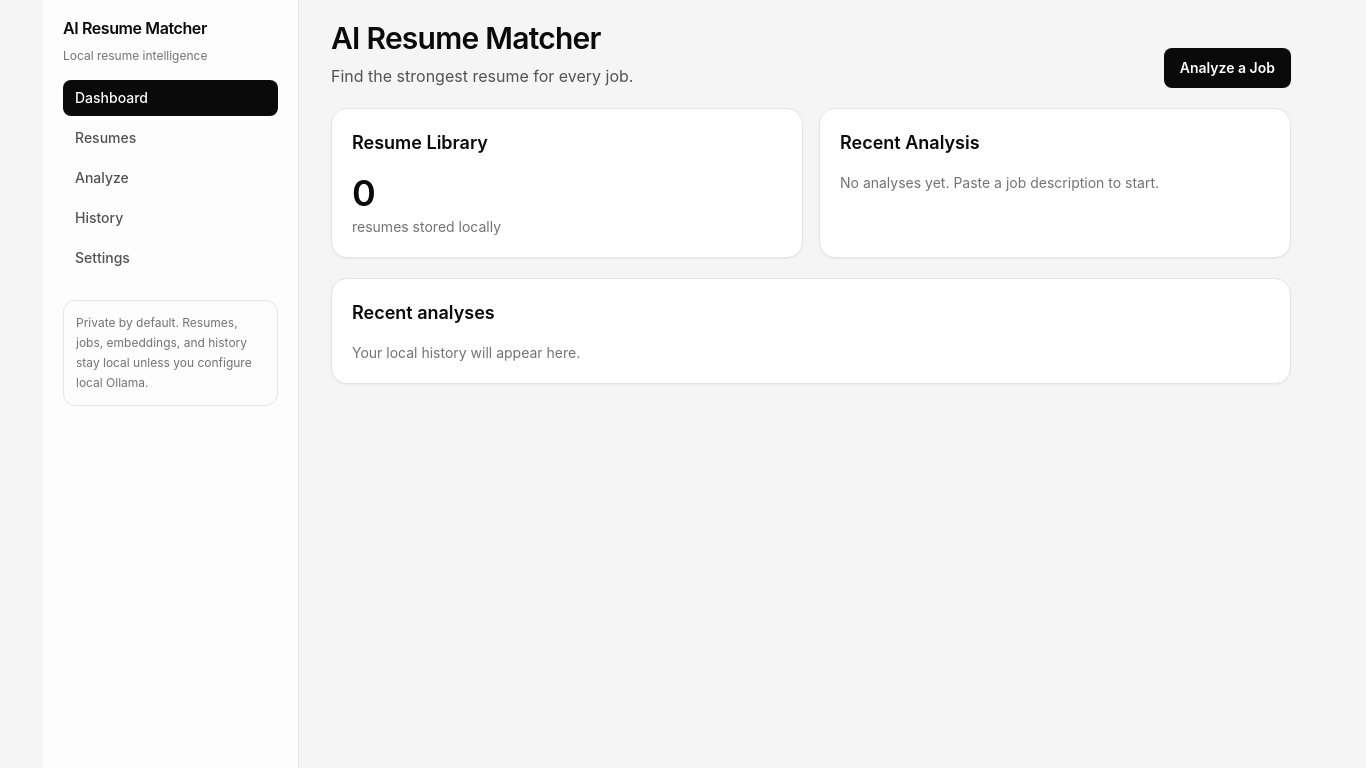
Test: shows resume library empty state and upload controls
Click the button "Resumes".
click(170, 138)  # box [63,120,278,156]
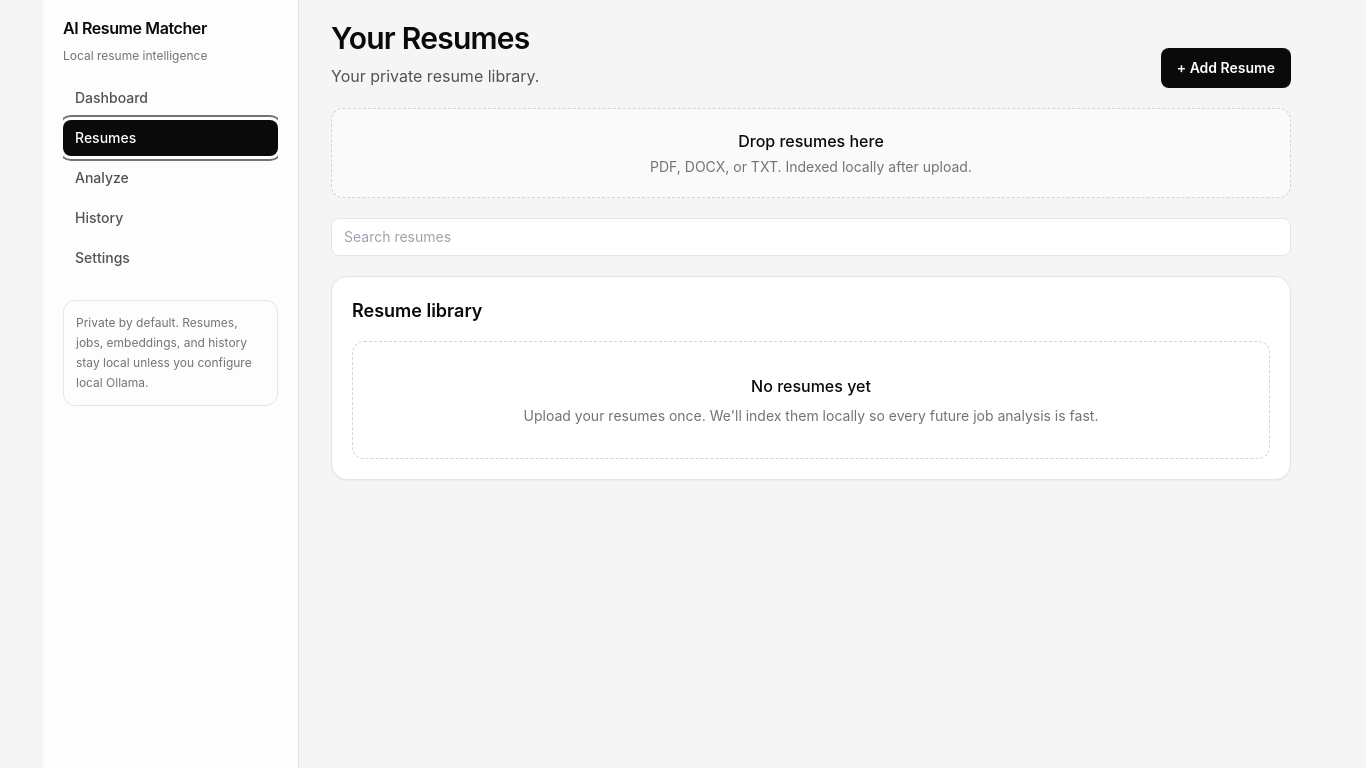
Result: the text "No resumes yet" is shown at [751,376,871,396]
Result: the button with aria-label "Upload resume" is shown at [331,108,1291,198]
